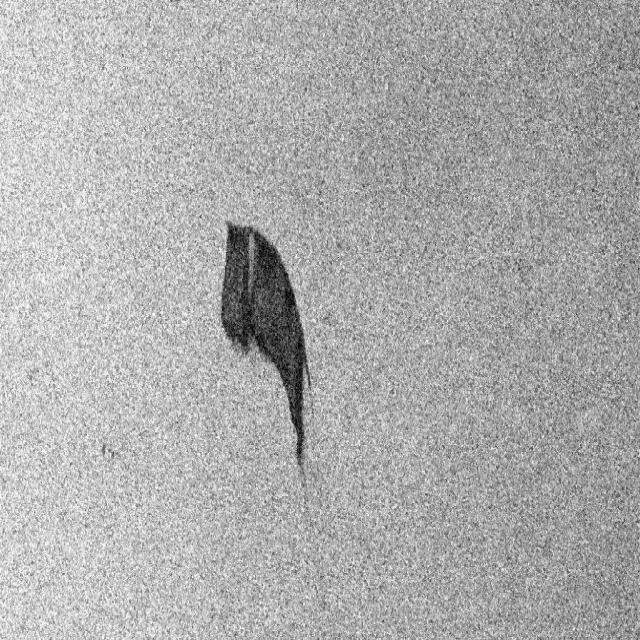oil-spill: (210, 212, 326, 484)
